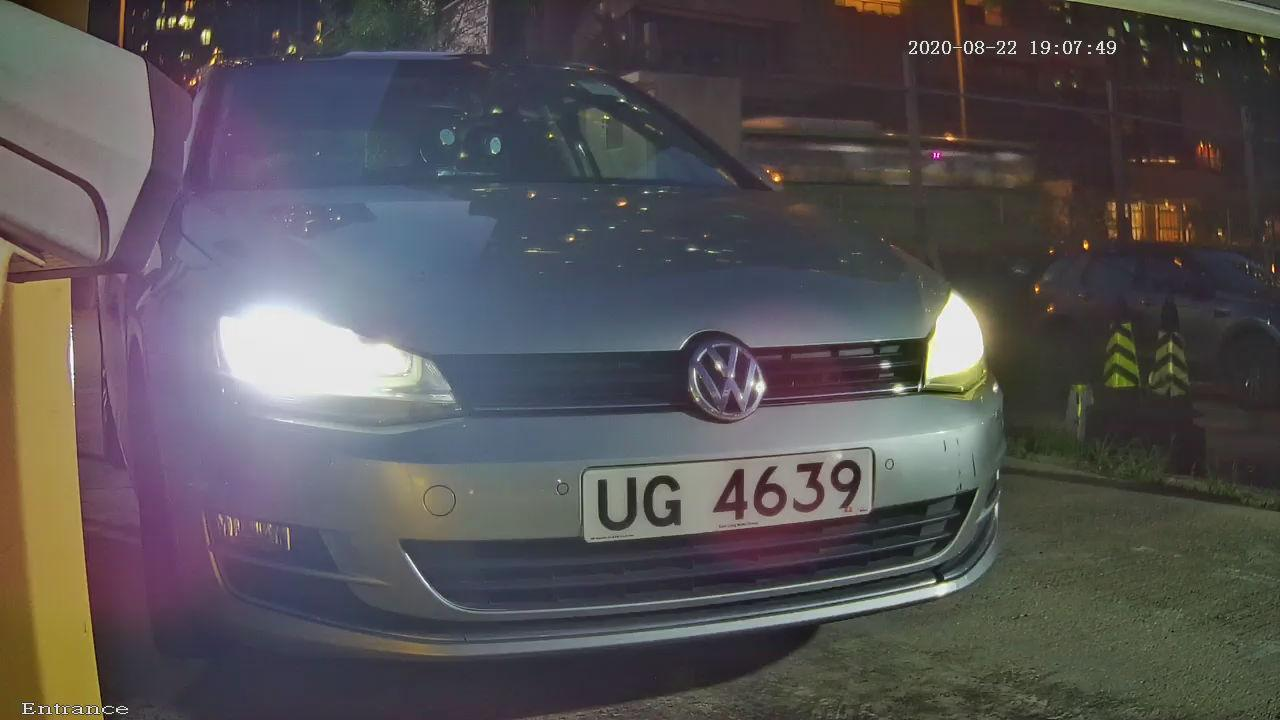Car: (12, 1, 1126, 720)
License Plate: (578, 438, 903, 550)
